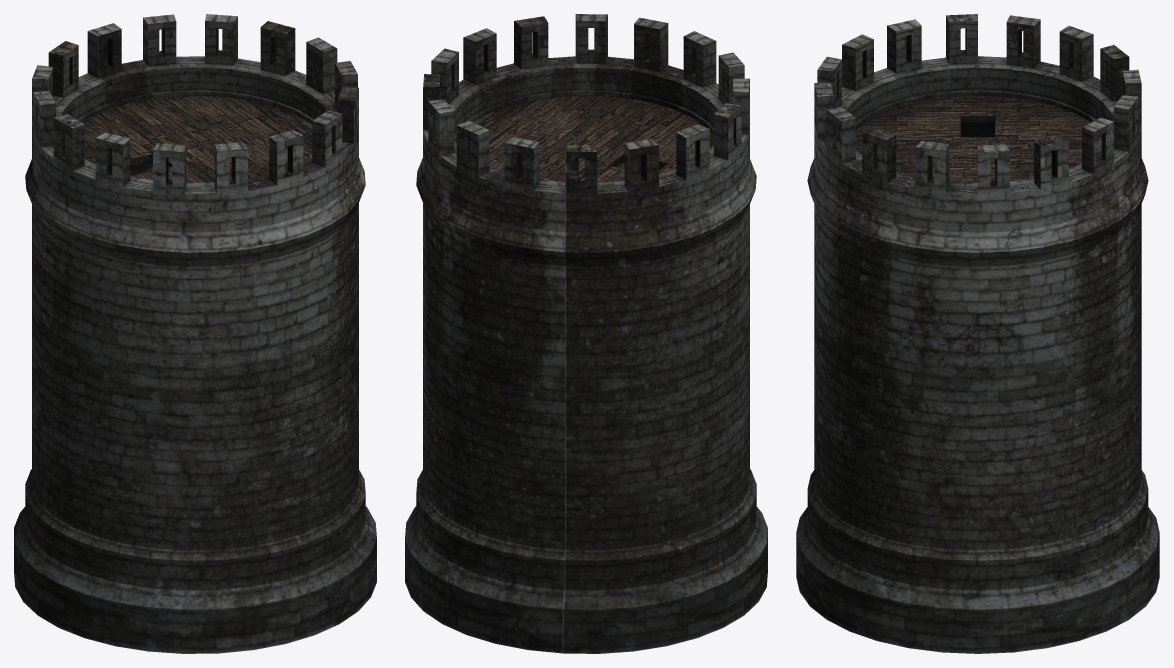
Rendered from Tower B.fbx.
3 renders of one model, left to right at view 1: azimuth 30°, elevation 25°; view 2: azimuth 150°, elevation 25°; view 3: azimuth 270°, elevation 25°, orthographic.
Parts seen in each view (by area): view 1: TowerB; view 2: TowerB; view 3: TowerB.
Boxes of the visible parts, x1,y1,x2,y2 form: TowerB: (14,14,376,653); TowerB: (405,14,767,653); TowerB: (796,14,1159,653).
Bounding box in the file's own units: 222 × 222 × 333.
